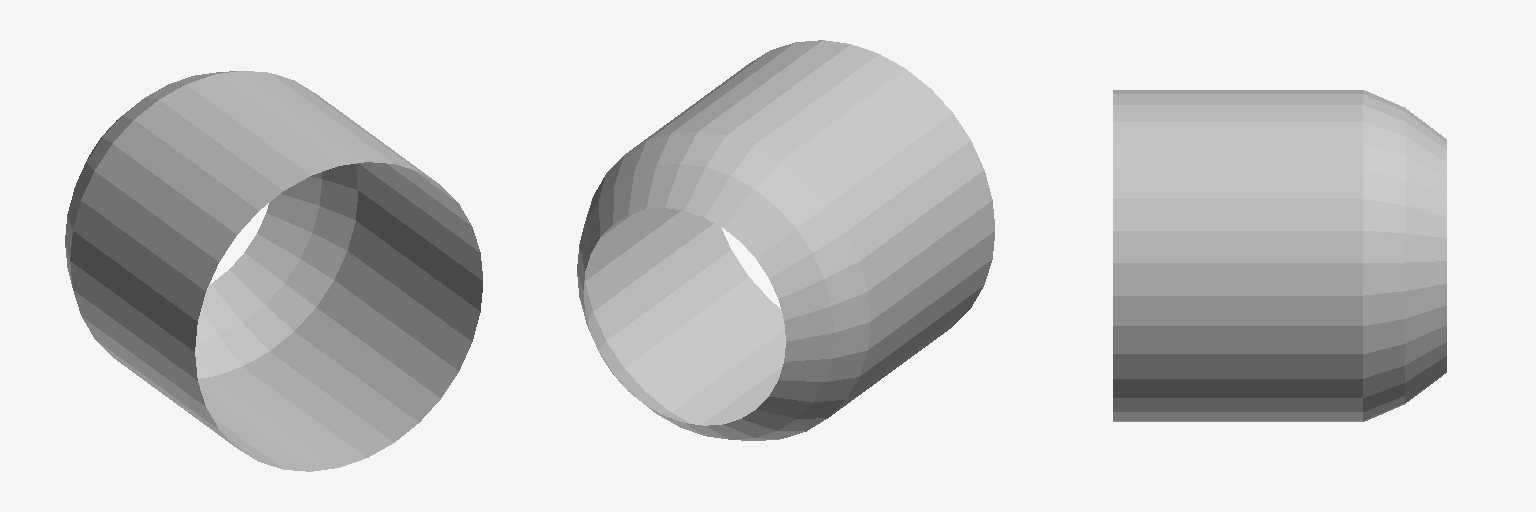
Rendered from beam-cylinder-1-rotated.mesh.obj.
3 views of the same model, side by side, from view 1: azimuth 30°, elevation 25°; view 2: azimuth 150°, elevation 25°; view 3: azimuth 270°, elevation 25° (orthographic).
Visible parts, largest first — view 1: Cylinder; view 2: Cylinder; view 3: Cylinder.
Boxes of the visible parts, box(x1,y1,x2,y2) form: Cylinder: box(65, 71, 482, 471); Cylinder: box(577, 40, 994, 440); Cylinder: box(1113, 90, 1446, 421).
Bounding box in the file's own units: 2 × 2 × 2.